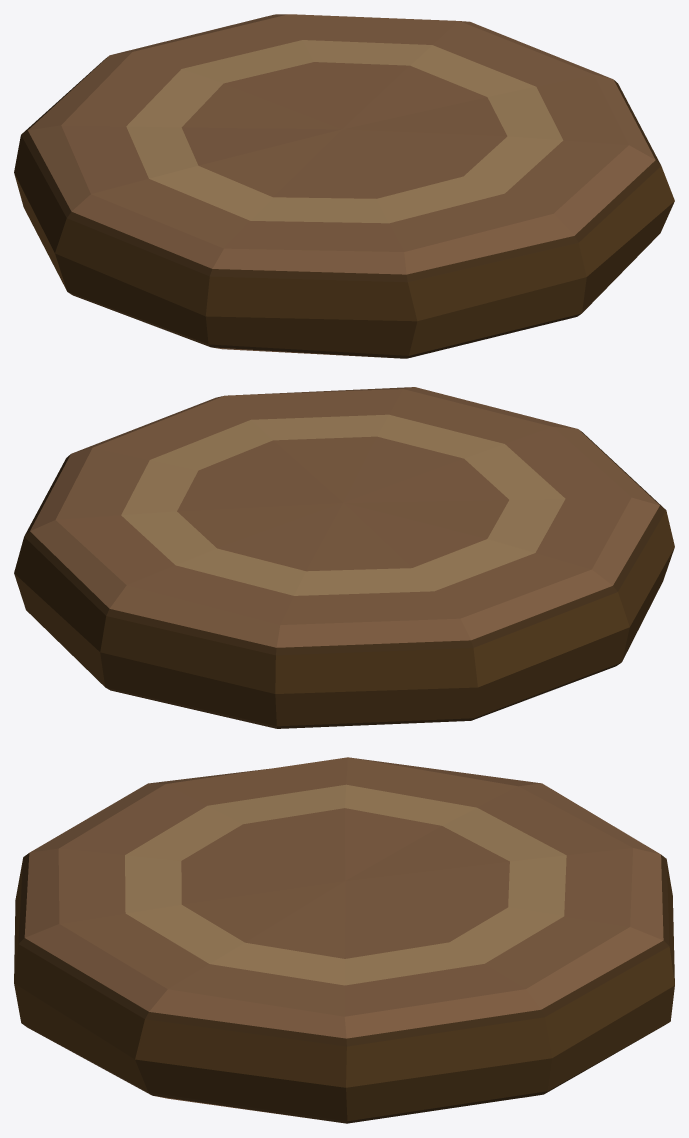
File: SM_Prop_Pillow_01.fbx
3 views of the same model, one above another, from view 1: azimuth 30°, elevation 25°; view 2: azimuth 150°, elevation 25°; view 3: azimuth 270°, elevation 25° (orthographic). The views are drawn at different scales.
Visible parts, largest first — view 1: SM_Prop_Pillow_01; view 2: SM_Prop_Pillow_01; view 3: SM_Prop_Pillow_01.
Part boxes in pixels (x1=…): SM_Prop_Pillow_01: x1=14, y1=14, x2=674, y2=358; SM_Prop_Pillow_01: x1=14, y1=387, x2=674, y2=728; SM_Prop_Pillow_01: x1=14, y1=757, x2=674, y2=1123.
Size of the model in its own units: 0.6863 by 0.1302 by 0.6537.
1 material, 1 textured.
